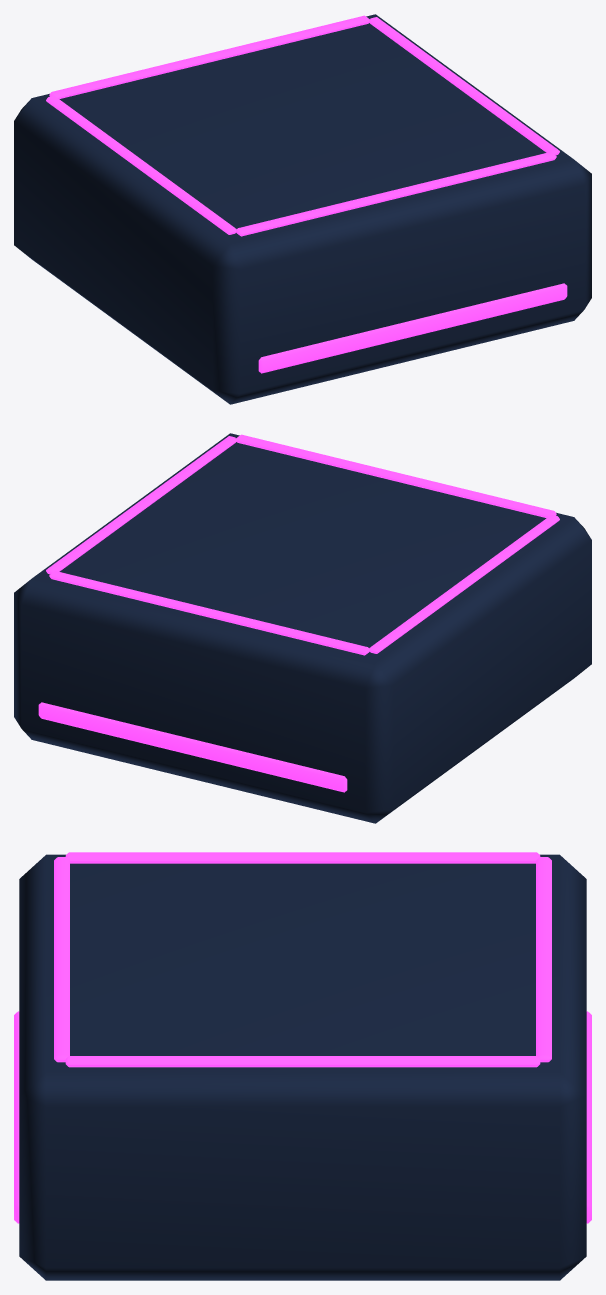
Rendered from NT_Cover_Square.fbx.
The picture shows the model from 3 angles, top to bottom: view 1: azimuth 30°, elevation 25°; view 2: azimuth 150°, elevation 25°; view 3: azimuth 270°, elevation 25°; orthographic projection. The views are drawn at different scales.
Visible parts, largest first — view 1: NT_Cover_Square__CoverMesh; view 2: NT_Cover_Square__CoverMesh; view 3: NT_Cover_Square__CoverMesh.
Part boxes in pixels (<box>): NT_Cover_Square__CoverMesh: <box>14,14,591,404</box>; NT_Cover_Square__CoverMesh: <box>14,433,591,823</box>; NT_Cover_Square__CoverMesh: <box>14,852,591,1280</box>.
Size of the model in its own units: 1.6 by 0.673 by 1.63.
